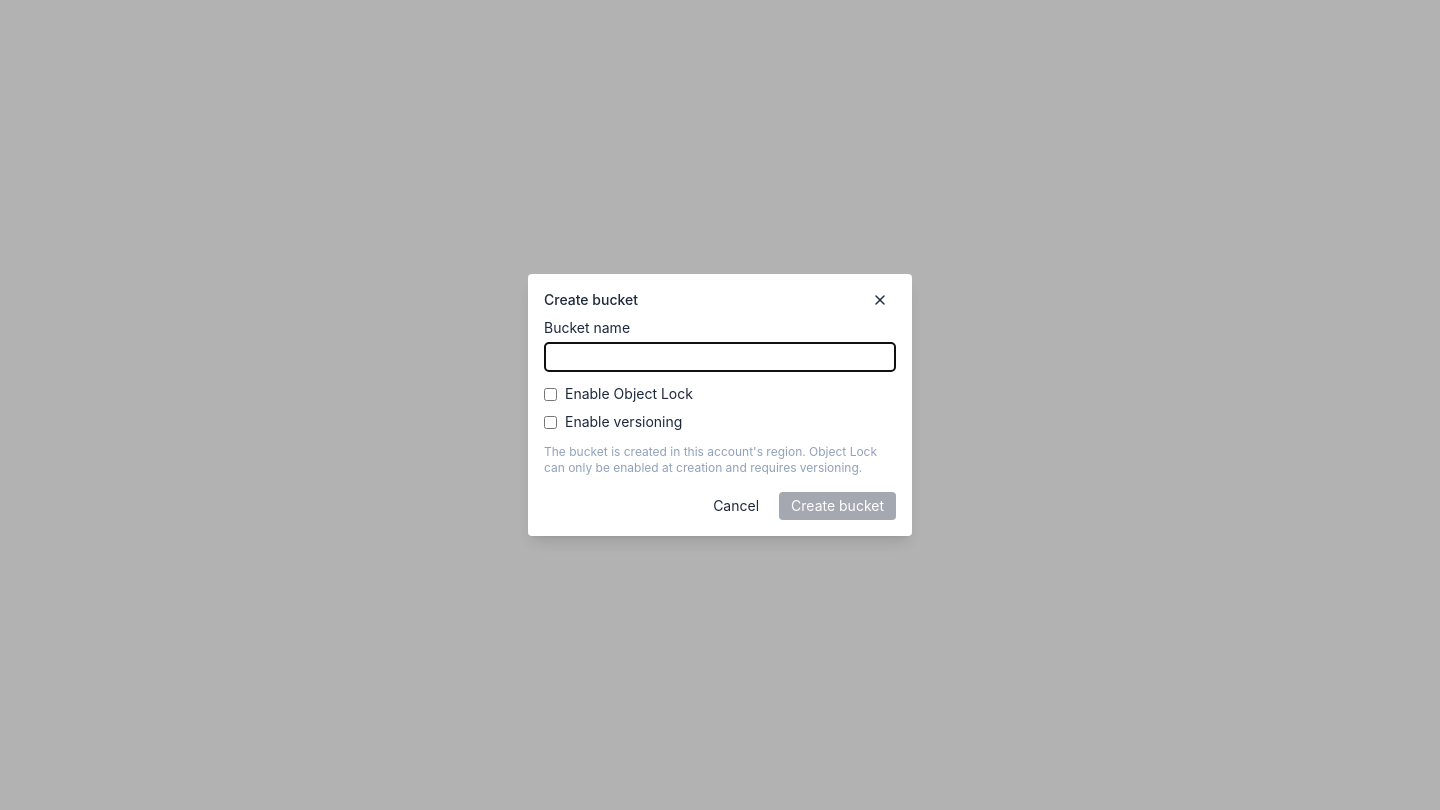
Test: CreateBucketDialog › disables Create until the name is valid
This screenshot has width=1440, height=810.
expect the button "Create bucket" is disabled: met, box [779,492,896,520]
Step 1. Type "my-bucket" into the field labelled "Bucket name" → (720,357), box [544,342,896,372]
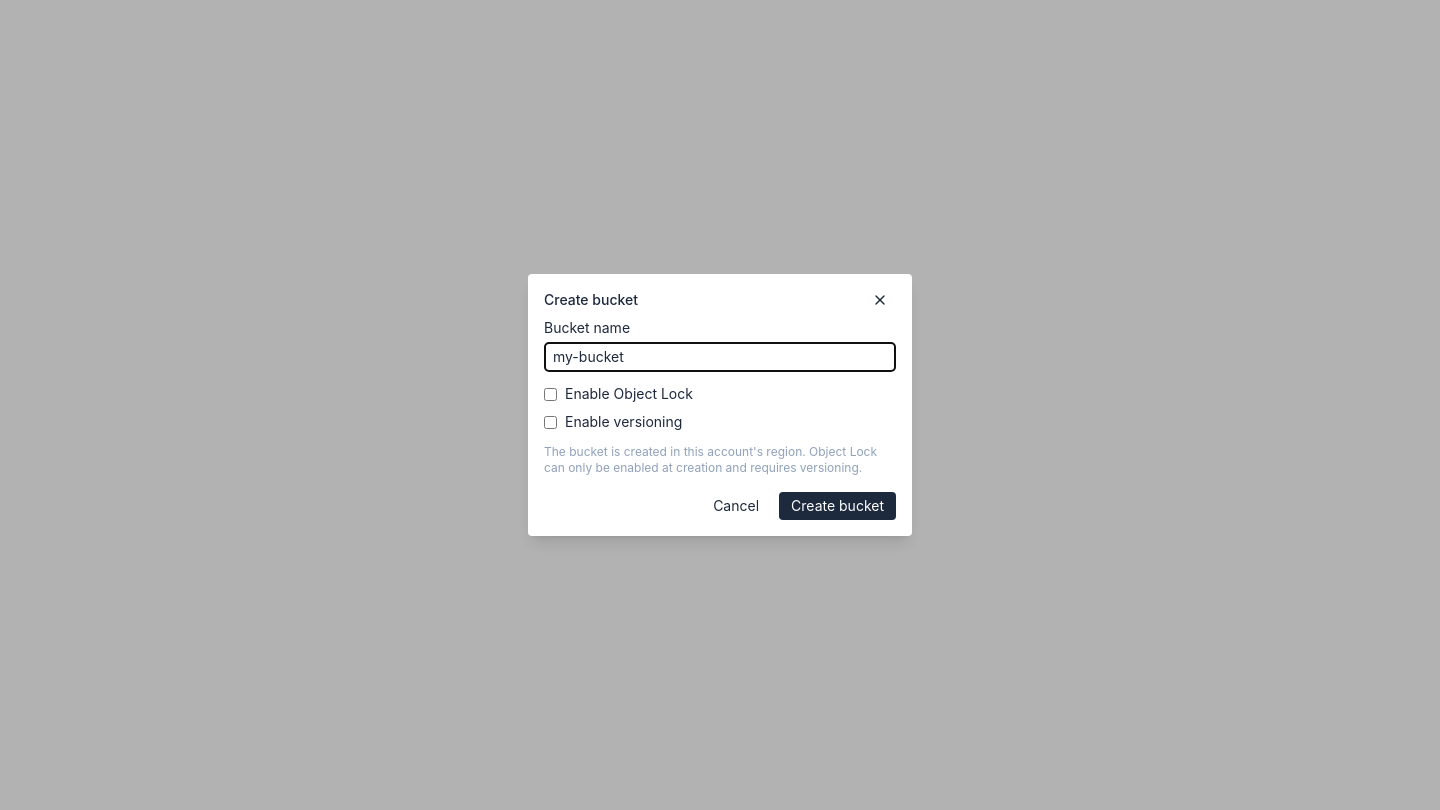
expect the button "Create bucket" is enabled: met, box [779,492,896,520]
